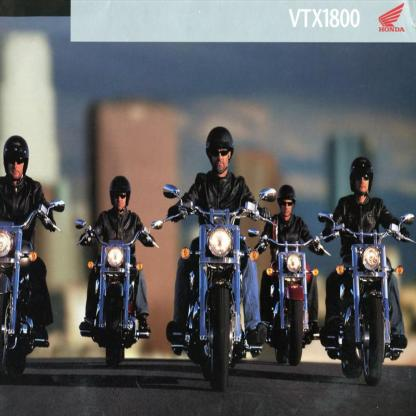Helmet: (206, 126, 235, 174), (1, 141, 28, 190), (349, 158, 373, 198), (110, 177, 130, 211), (278, 184, 296, 219)
